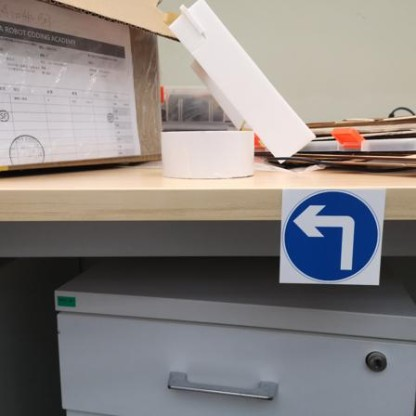left: (278, 181, 386, 292)
